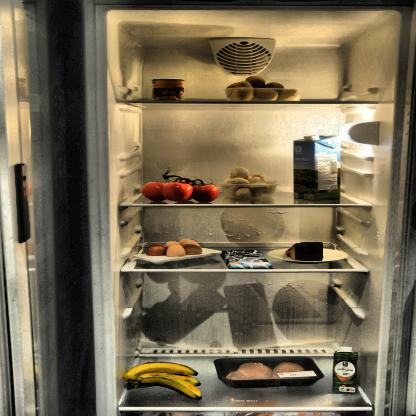banana: (121, 361, 204, 402)
cheese: (284, 242, 325, 262)
chicken: (221, 359, 318, 381)
chocolate: (223, 248, 275, 268)
corn: (151, 79, 188, 102)
eggs: (143, 238, 210, 257)
heavy_cream: (332, 346, 364, 396)
milk: (295, 132, 345, 204)
mushrooms: (223, 167, 273, 199)
potato: (224, 74, 302, 101)
tomato: (141, 178, 219, 204)
